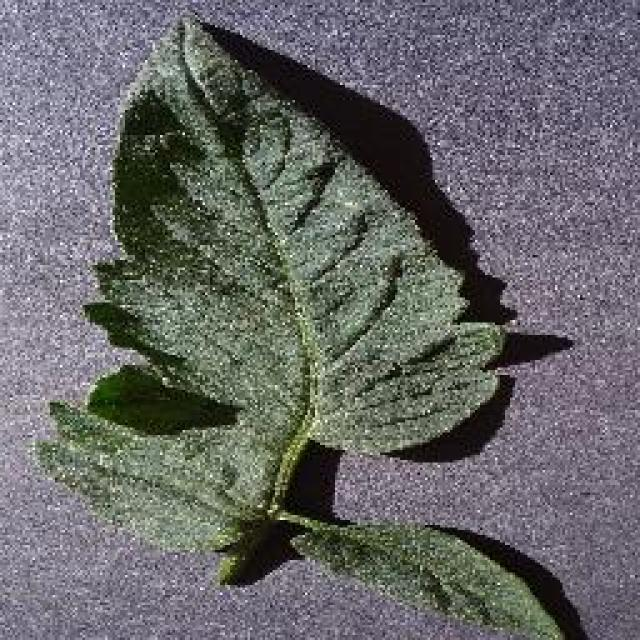Tomato_Healthy: (32, 12, 595, 629)
